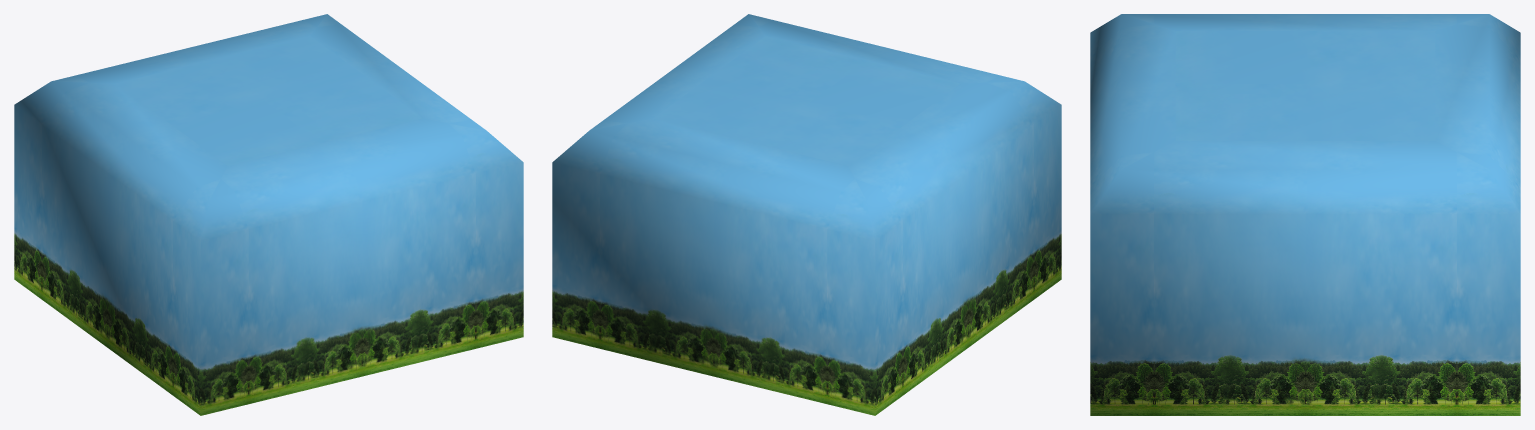
Rendered from Skybox4.glb.
The picture shows the model from 3 angles, left to right: view 1: azimuth 30°, elevation 25°; view 2: azimuth 150°, elevation 25°; view 3: azimuth 270°, elevation 25°; orthographic projection. The views are drawn at different scales.
Visible parts, largest first — view 1: Cube; view 2: Cube; view 3: Cube.
Boxes of the visible parts, x1,y1,x2,y2 form: Cube: [14, 14, 523, 415]; Cube: [552, 14, 1061, 415]; Cube: [1090, 14, 1520, 415].
Size of what is drawn, in the model's own units: 160 by 98.12 by 160.
1 material, 1 textured.
